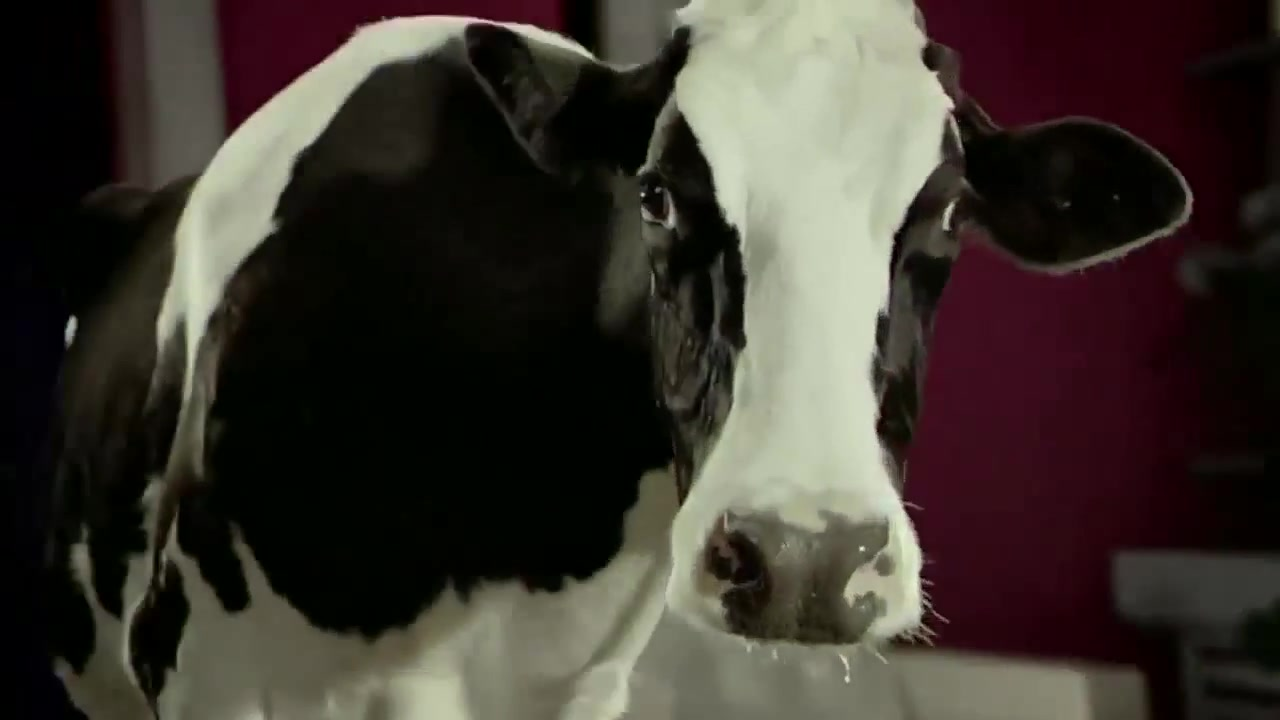cow: (1, 1, 1194, 720)
